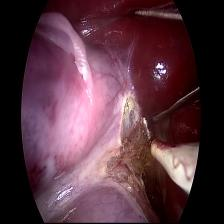Grasper: (130, 2, 209, 125)
Hook: (138, 110, 203, 204)
